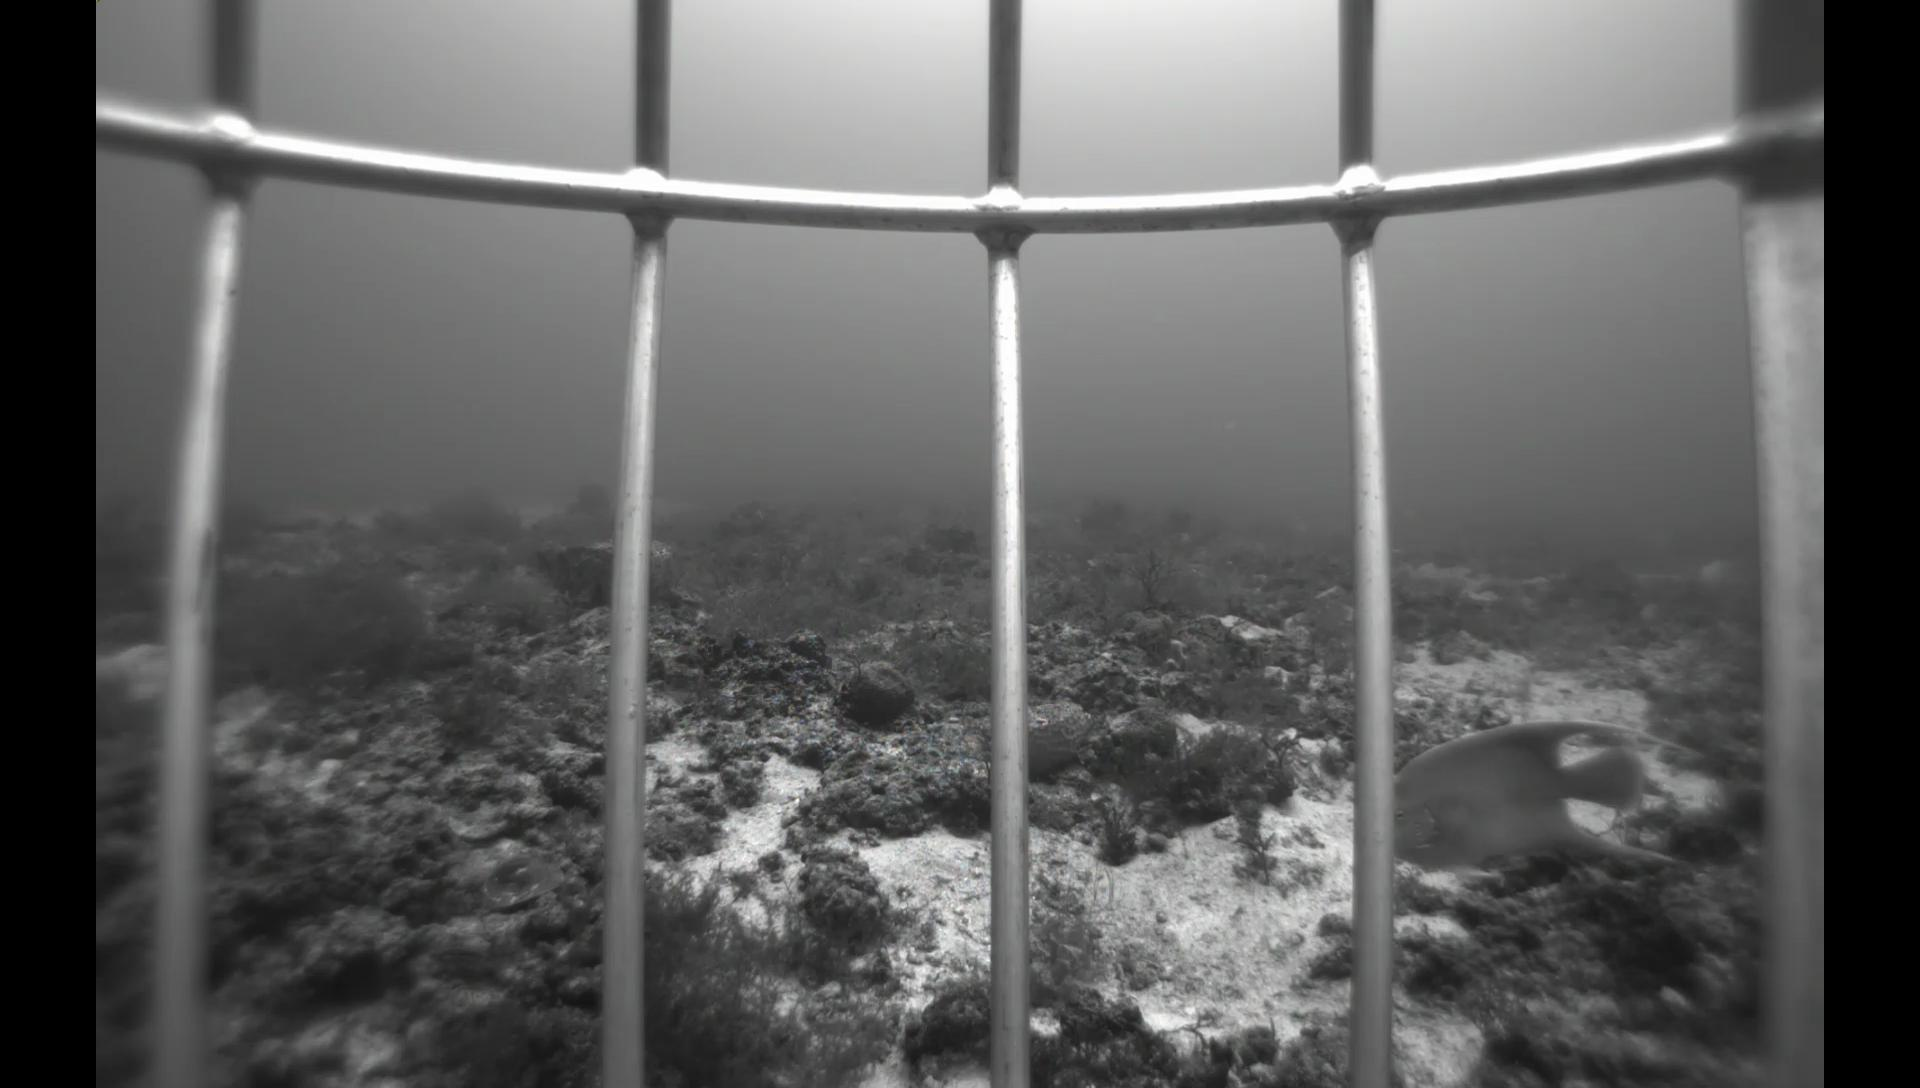HOLACANTHUSBERMUDENSIS-170290102: (1393, 716, 1709, 880), (1689, 547, 1756, 601)
SERRANUSANNULARIS-170024201: (422, 940, 509, 982)
